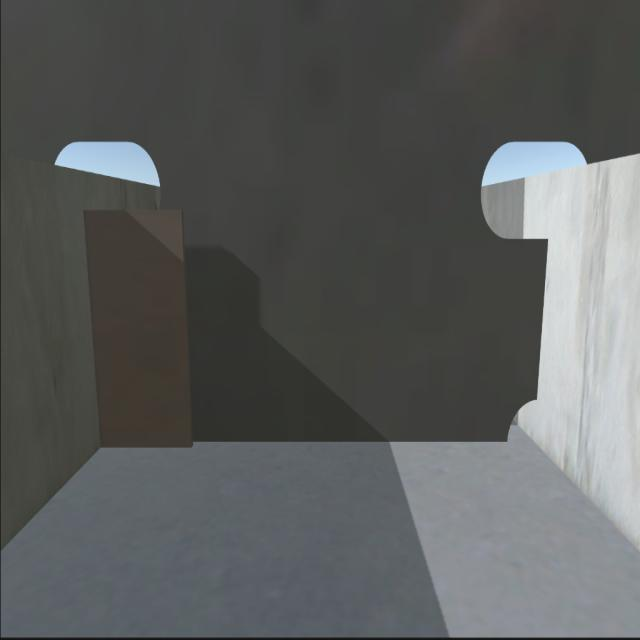fillet_hole: (501, 392, 541, 450)
fillet_yong_jeop_jang: (89, 440, 506, 447)
longi_yong_jeop_jang: (80, 216, 111, 442), (539, 241, 550, 398)
plate_CP01: (96, 203, 186, 453)
